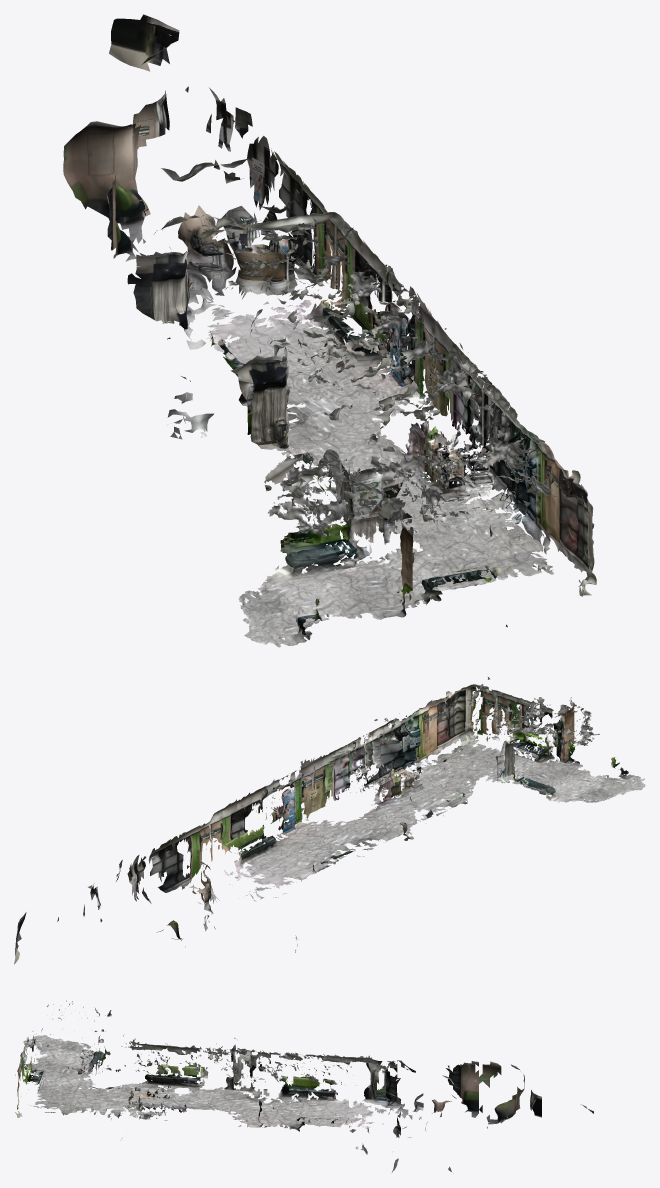
File: 147563-tower6lorongkasir-tex.glb
3 views of the same model, one above another, from view 1: azimuth 30°, elevation 25°; view 2: azimuth 150°, elevation 25°; view 3: azimuth 270°, elevation 25° (orthographic). The views are drawn at different scales.
Parts seen in each view (by area): view 1: Node; view 2: Node; view 3: Node.
Boxes of the visible parts, x1,y1,x2,y2 form: Node: [63, 14, 596, 647]; Node: [14, 677, 645, 964]; Node: [15, 1000, 593, 1173].
Bounding box in the file's own units: 14.62 × 6.66 × 32.65.
32 materials, 32 textured.
